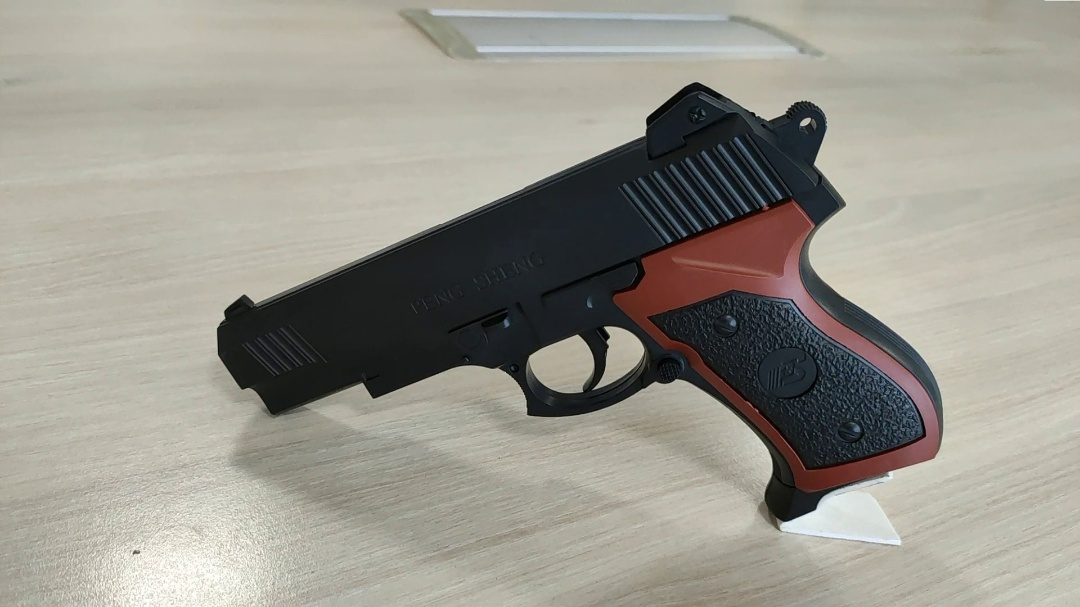gun: (553, 177, 667, 302)
